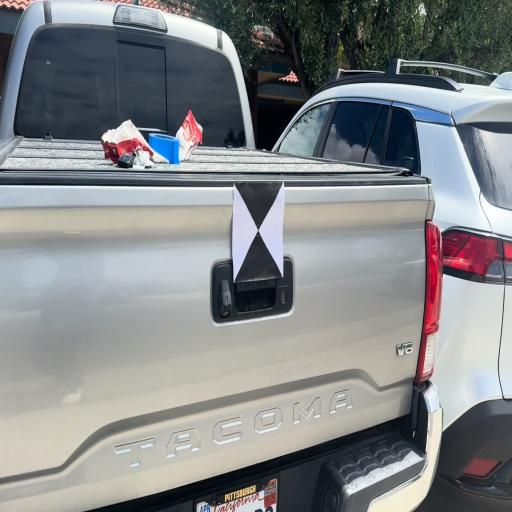target: (233, 183, 284, 276)
